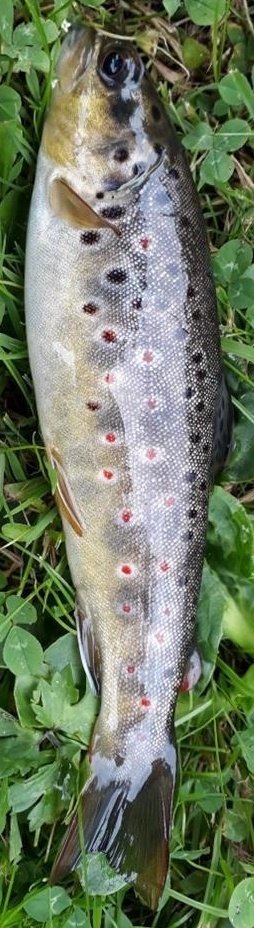Salmo trutta subsp. fario: (20, 20, 234, 908)
